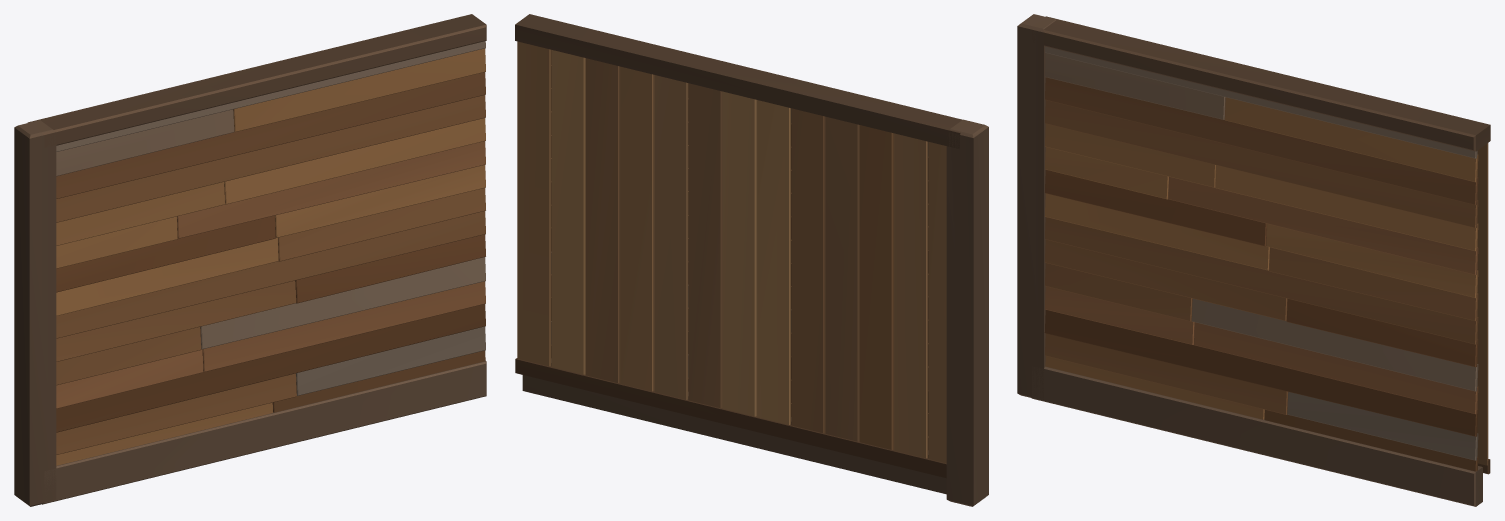
The model's file is wood_wall_01.glb.
3 views of the same model, side by side, from view 1: azimuth 30°, elevation 25°; view 2: azimuth 150°, elevation 25°; view 3: azimuth 330°, elevation 25° (orthographic).
Parts seen in each view (by area): view 1: wood_wall_01_body, corner_post; view 2: wood_wall_01_body, corner_post; view 3: wood_wall_01_body, corner_post.
Part boxes in pixels (<box>): wood_wall_01_body: <box>27,14,486,504</box>; corner_post: <box>14,120,56,506</box>; wood_wall_01_body: <box>515,14,962,494</box>; corner_post: <box>946,119,988,506</box>; wood_wall_01_body: <box>1031,16,1490,506</box>; corner_post: <box>1017,14,1056,399</box>.
Size of the model in its own units: 4.12 by 3.2 by 0.24.
